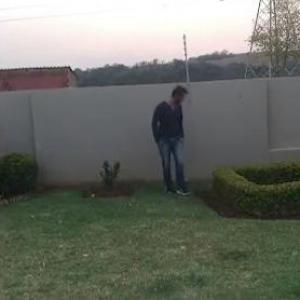follow: (149, 76, 189, 208)
